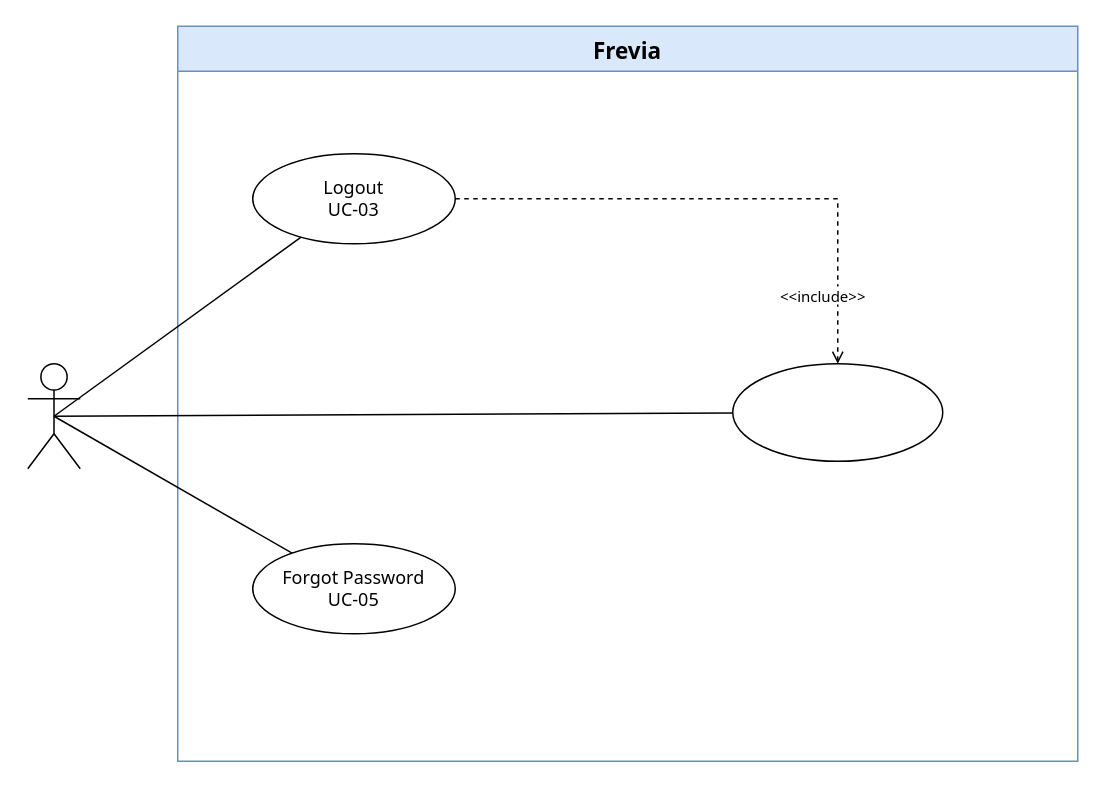
Some shapes in this 1104 by 788 pixel diagram are drawn without their labels. Each missing label, with the box of its shape:
Client: (26, 362, 80, 469)
Login UC-02: (731, 362, 943, 461)
